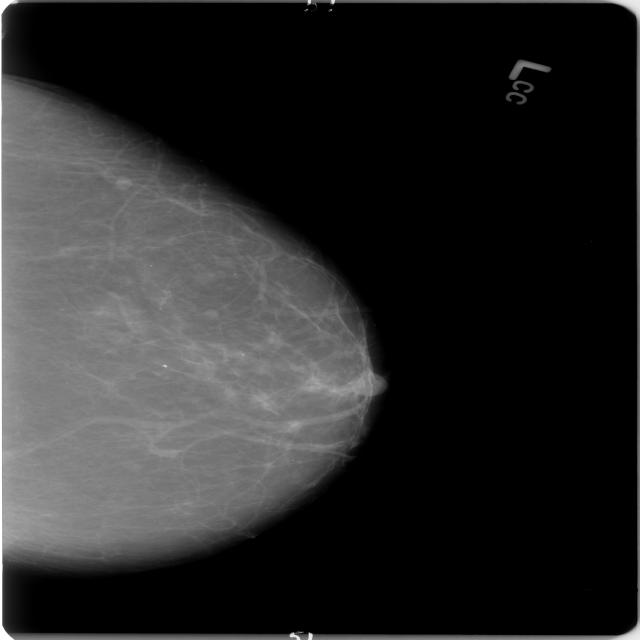normal: (0, 64, 390, 568)
